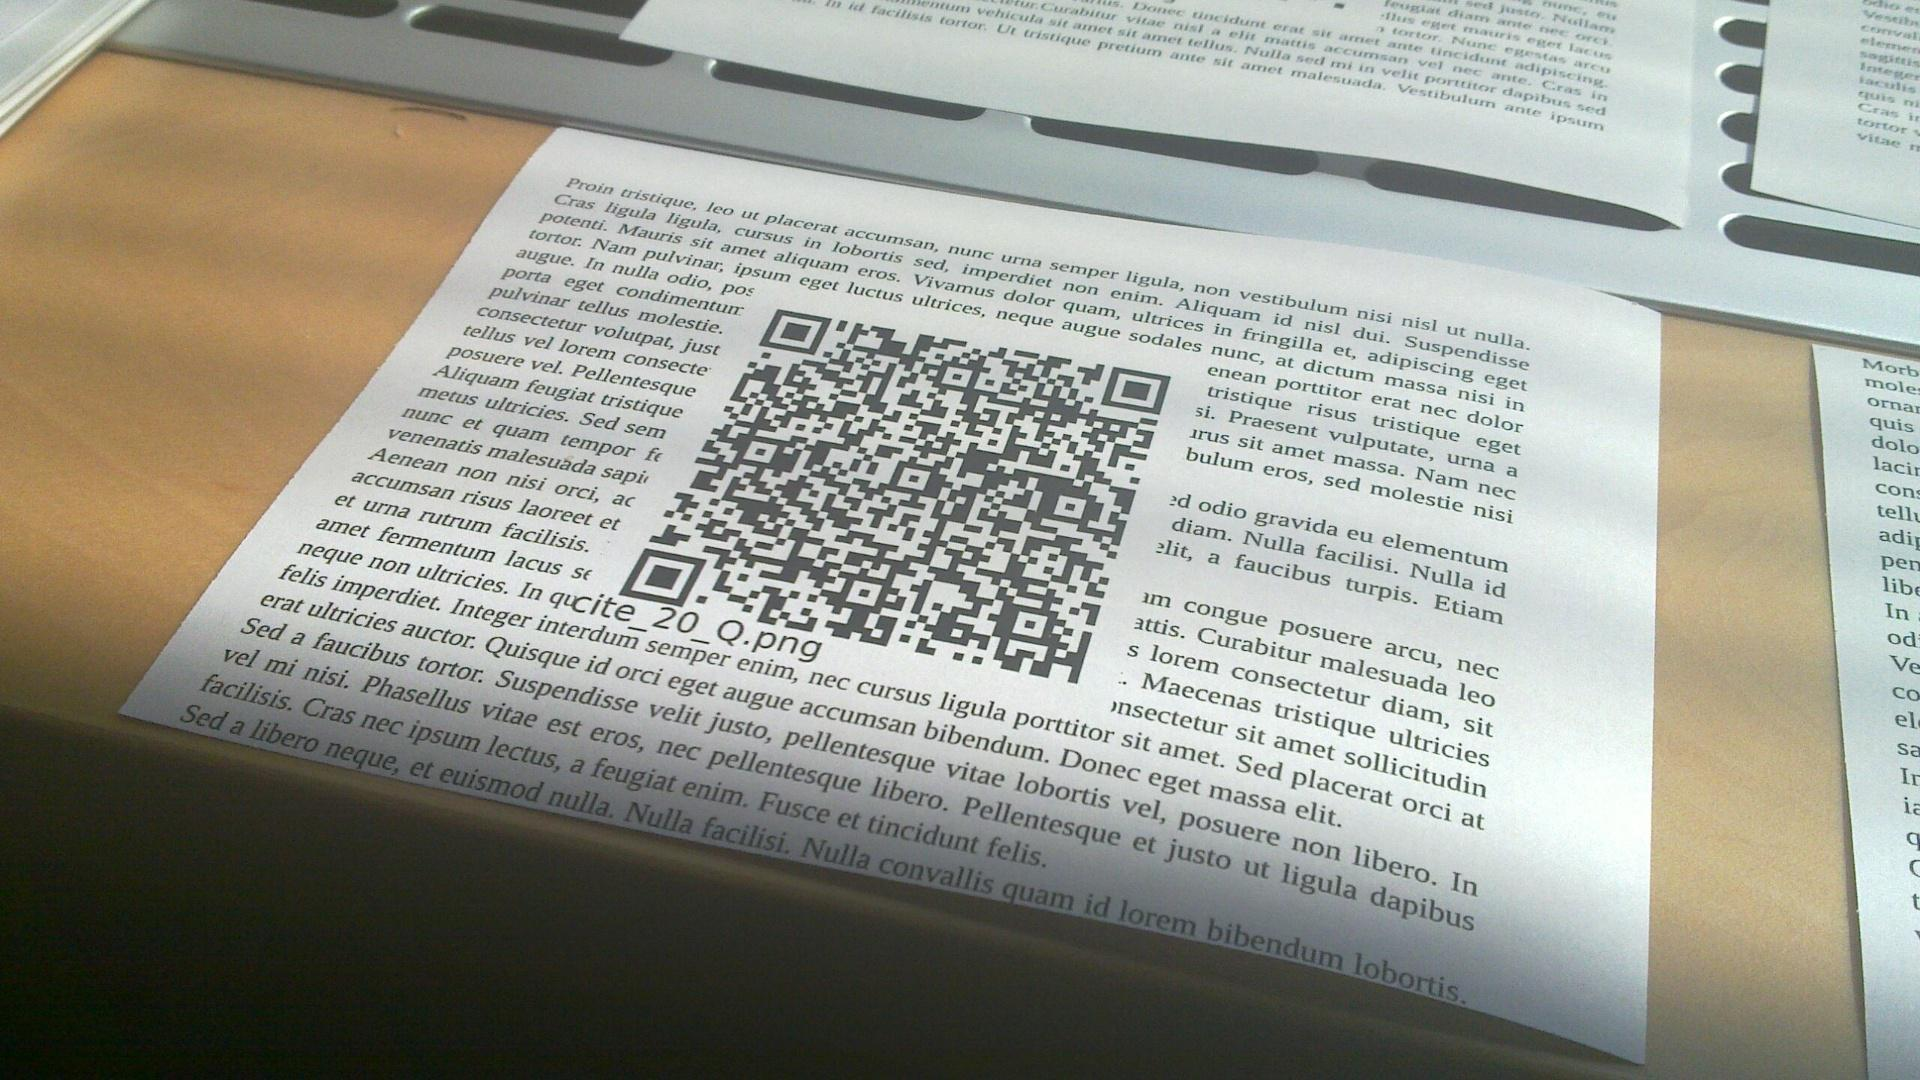Finder pattern: (618, 546, 705, 607), (1102, 364, 1172, 418), (762, 306, 831, 357)
